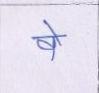e_matra: (43, 20, 59, 35)
